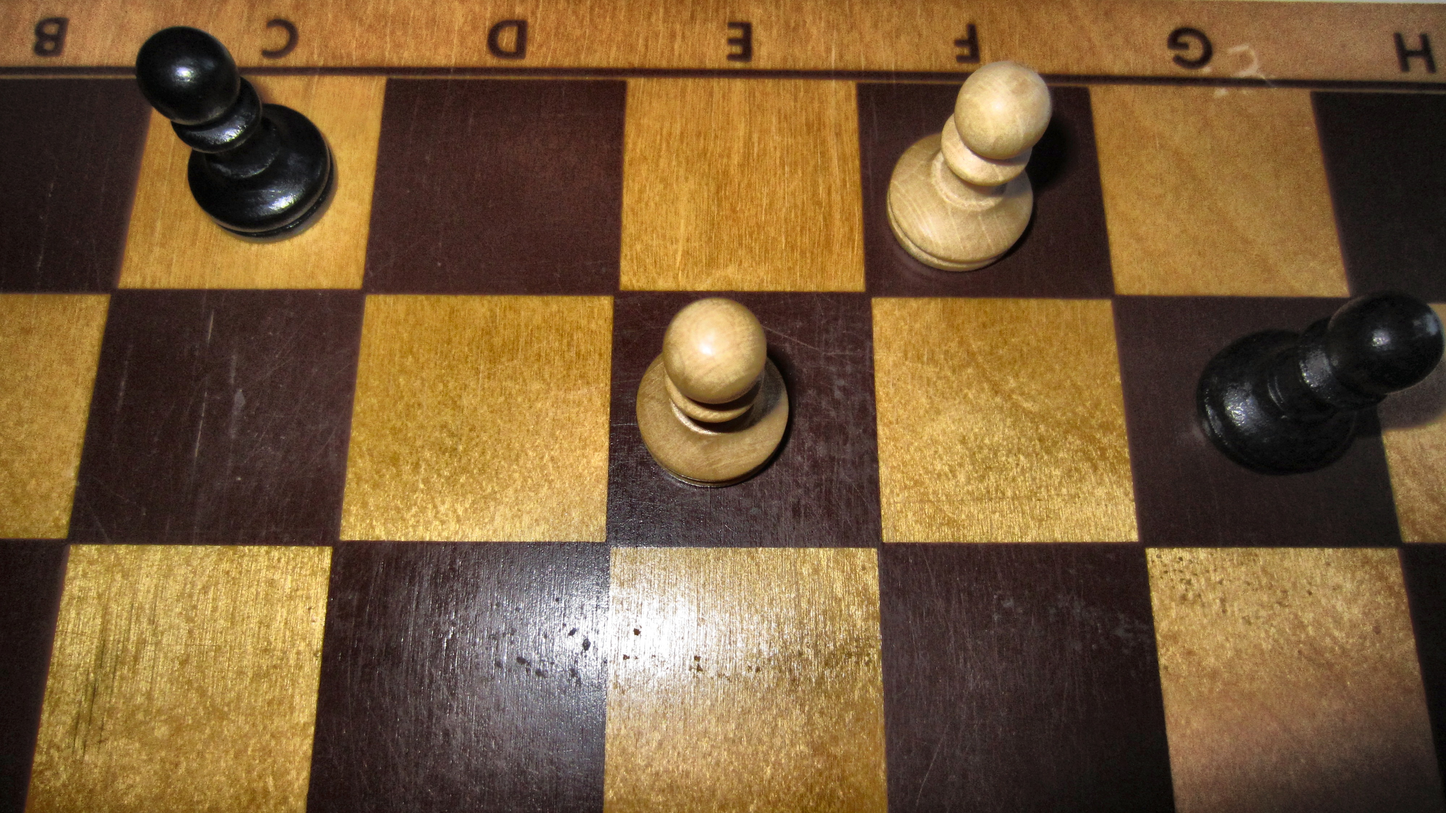black-pawn: (1193, 288, 1446, 477), (133, 25, 339, 242)
white-pawn: (883, 59, 1053, 275), (632, 294, 792, 492)
